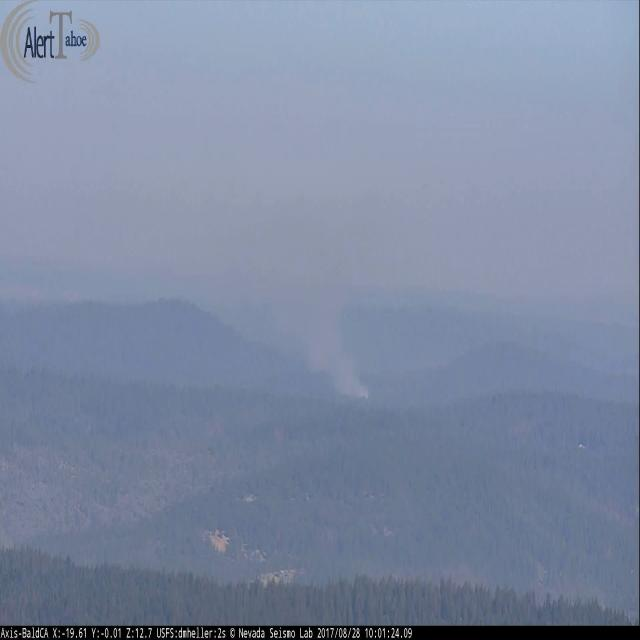smoke: (311, 316, 369, 403)
